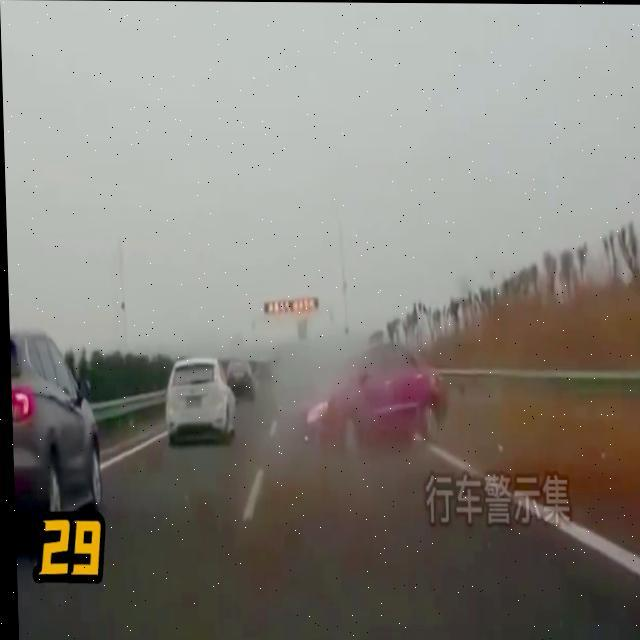normal: (161, 357, 236, 451)
single accident: (292, 312, 490, 468)
